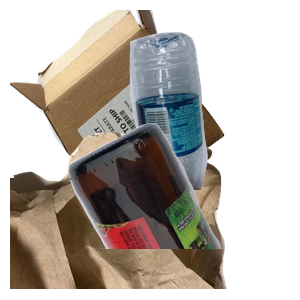cardboard: (10, 10, 227, 190)
glass: (66, 120, 300, 300)
plastic: (127, 29, 300, 209)
trash: (10, 120, 229, 300)
